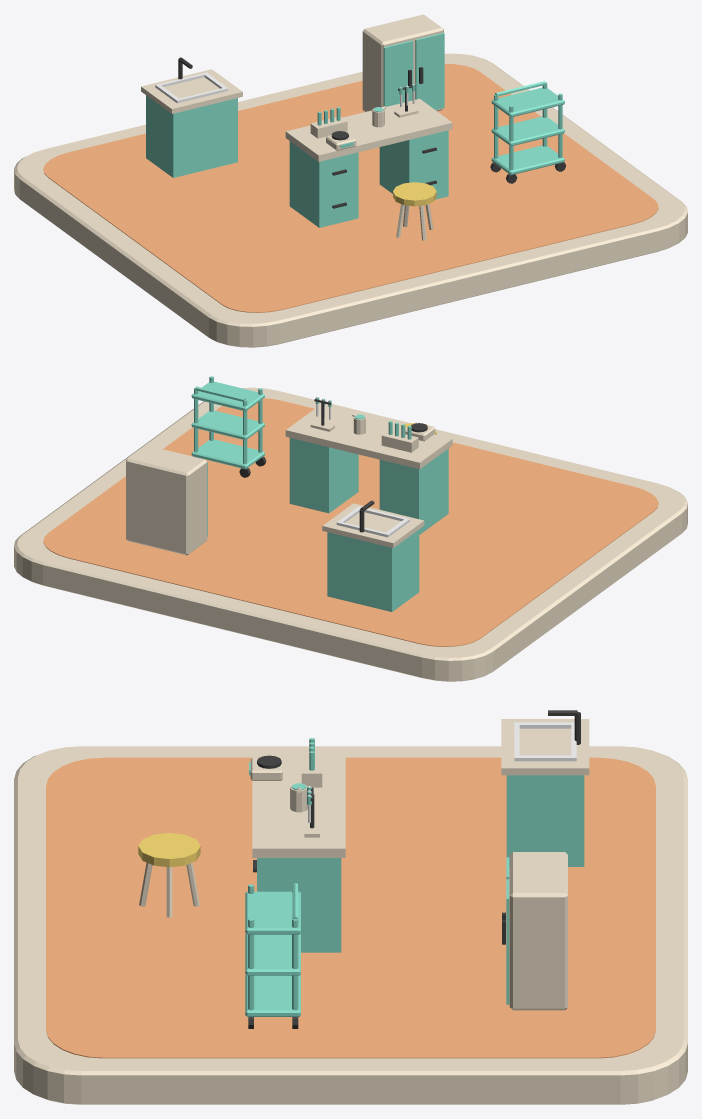
The picture shows the model from 3 angles, top to bottom: view 1: azimuth 30°, elevation 25°; view 2: azimuth 150°, elevation 25°; view 3: azimuth 270°, elevation 25°; orthographic projection. The views are drawn at different scales.
Visible parts, largest first — view 1: COM-02 Floor Surface, COM-01 Rounded Base Direct, Cabinet, Storage module, Worktop, Storage module.001, Equipment case, Counter, Door.001, Door, Tray.002, Tray (+3 smaller); view 2: COM-02 Floor Surface, COM-01 Rounded Base Direct, Equipment case, Cabinet, Worktop, Storage module.001, Storage module, Counter, Tray, Tray.001, Tray.002, Rack; view 3: COM-02 Floor Surface, COM-01 Rounded Base Direct, Equipment case, Worktop, Cabinet, Storage module.001, Counter, Tray.002, Tray, Tray.001, Seat, Rack.
Boxes of the visible parts, box(x1,y1,x2,y2) form: COM-02 Floor Surface: box(43, 64, 658, 312); COM-01 Rounded Base Direct: box(14, 53, 687, 347); Cabinet: box(146, 95, 237, 177); Storage module: box(289, 141, 358, 227); Worktop: box(285, 98, 452, 161); Storage module.001: box(379, 130, 448, 199); Equipment case: box(362, 14, 443, 111); Counter: box(141, 69, 242, 113); Door.001: box(415, 32, 444, 109); Door: box(383, 40, 413, 106); Tray.002: box(491, 87, 564, 117); Tray: box(491, 145, 564, 175); COM-02 Floor Surface: box(43, 398, 658, 646); COM-01 Rounded Base Direct: box(14, 387, 687, 681); Equipment case: box(126, 445, 207, 555); Cabinet: box(327, 529, 419, 611); Worktop: box(285, 406, 452, 469); Storage module.001: box(289, 438, 358, 513); Storage module: box(379, 448, 448, 534); Counter: box(322, 503, 424, 548); Tray: box(191, 439, 264, 469); Tray.001: box(191, 410, 264, 440); Tray.002: box(191, 381, 264, 411); Rack: box(381, 430, 418, 452); COM-02 Floor Surface: box(46, 757, 655, 1058); COM-01 Rounded Base Direct: box(14, 746, 687, 1104); Equipment case: box(509, 852, 567, 1010); Worktop: box(252, 755, 345, 857); Cabinet: box(506, 775, 584, 866); Storage module.001: box(257, 858, 341, 952); Counter: box(501, 719, 589, 775); Tray.002: box(245, 891, 300, 934); Tray: box(245, 975, 300, 1016); Tray.001: box(245, 934, 300, 975); Seat: box(138, 833, 200, 867); Rack: box(301, 752, 322, 787).
Bounding box in the file's own units: 6 × 1.54 × 5.2.
1 material, 1 textured.
